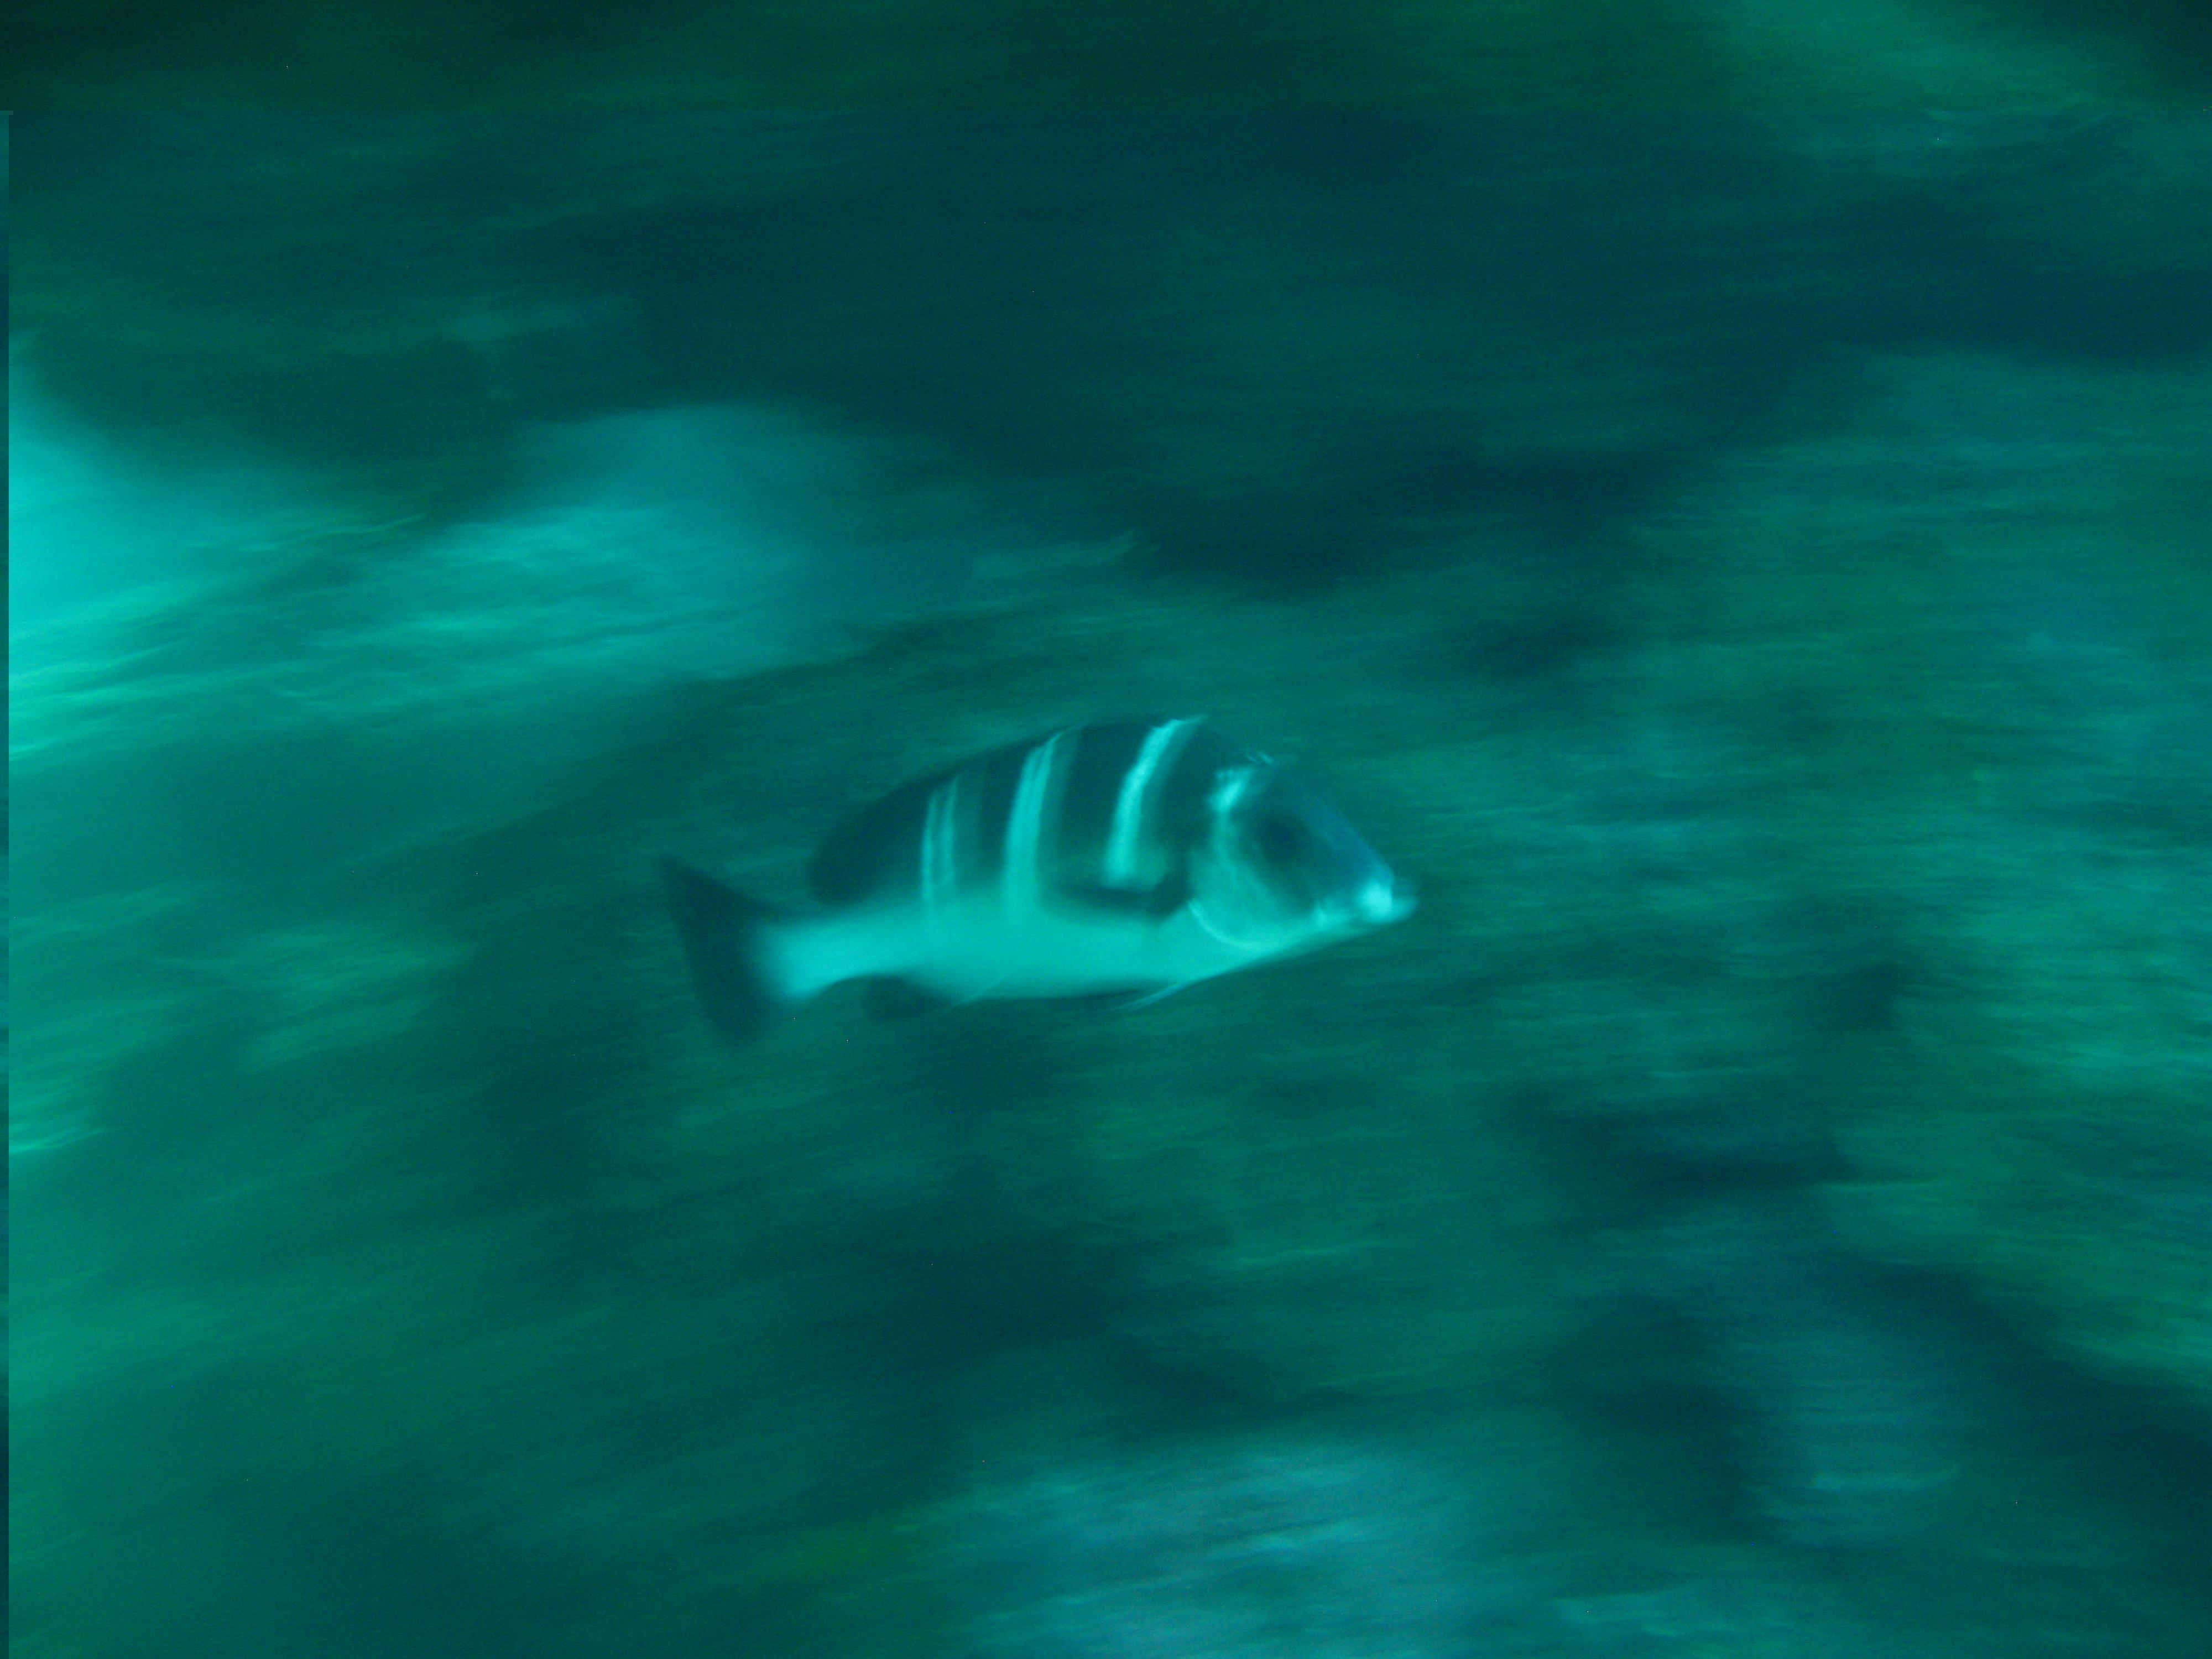Fish: (634, 697, 1472, 1054)
